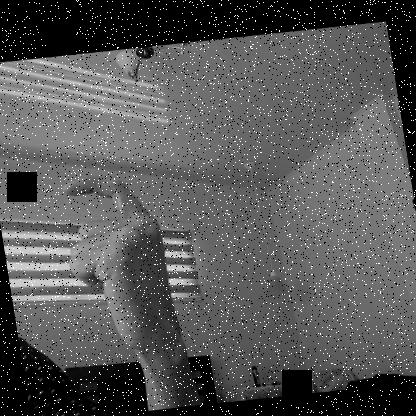X: (51, 158, 200, 375)
